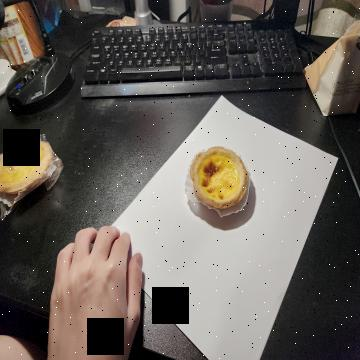EggTart: (190, 144, 249, 212)
